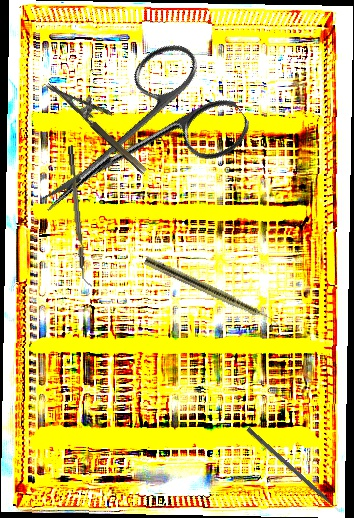Chopper: (67, 144, 93, 289)
Handpiece: (142, 255, 284, 330)
Hook Surgical: (245, 426, 342, 516)
Iris Scissors: (8, 29, 257, 260)
Needle Holder: (46, 67, 159, 176)
